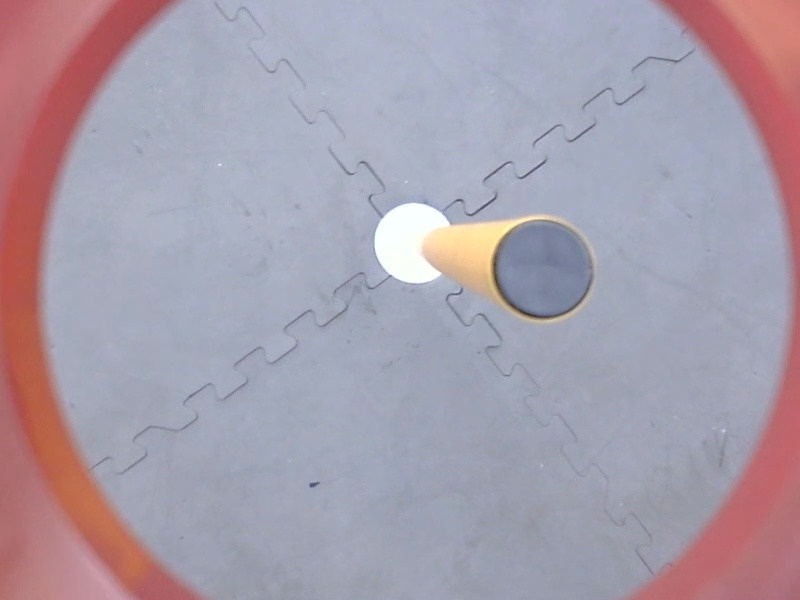tip: (487, 212, 601, 326)
